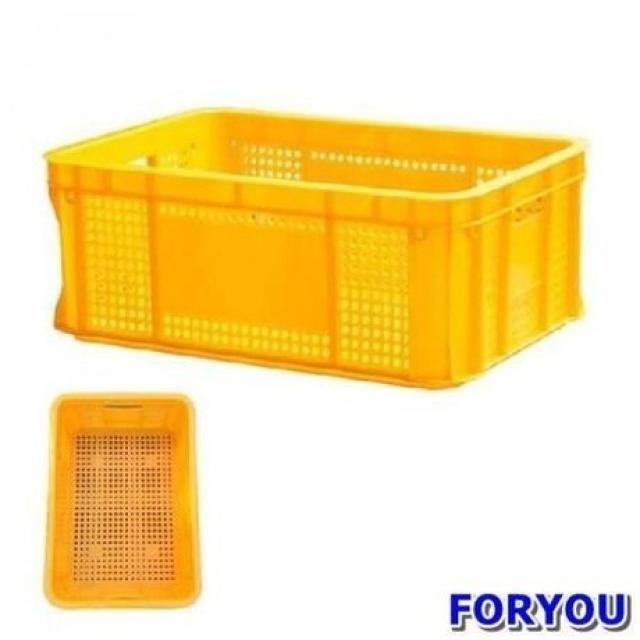basket: (32, 99, 594, 398), (47, 397, 200, 609)
